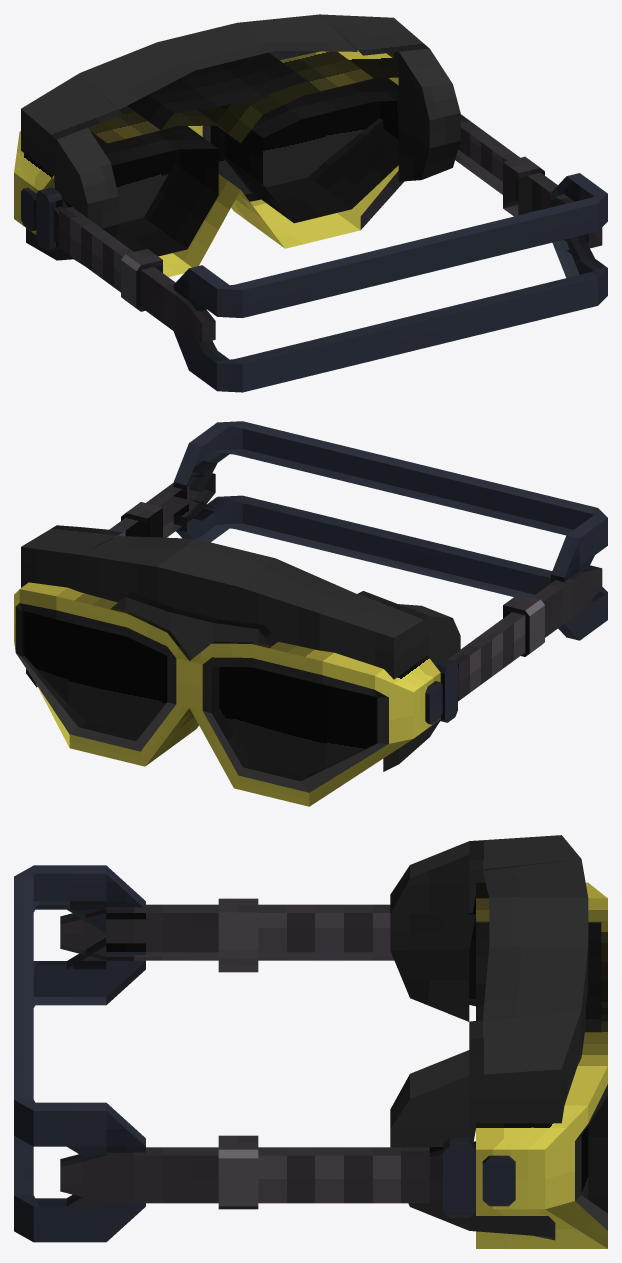
The picture shows the model from 3 angles, top to bottom: view 1: azimuth 30°, elevation 25°; view 2: azimuth 150°, elevation 25°; view 3: azimuth 270°, elevation 25°; orthographic projection. The views are drawn at different scales.
Parts seen in each view (by area): view 1: head; view 2: head; view 3: head.
Boxes of the visible parts, x1,y1,x2,y2 form: head: (14, 14, 607, 392); head: (14, 421, 607, 806); head: (14, 835, 607, 1248).
Size of the model in its own units: 0.575 by 0.2625 by 0.5625.
1 material, 1 textured.
